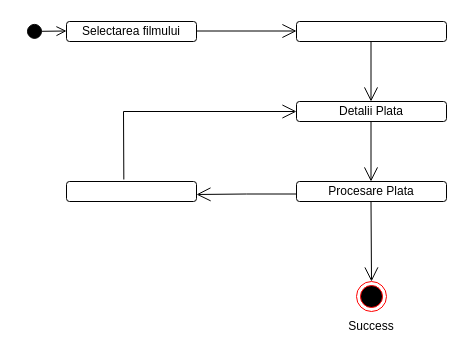
The diagram is 464 pixels wide and 358 high, and some of its shapes have lost their labels. The box of each missing label's shape, as (x1, y1, x2, y2) in pixels:
Alegerea orei si a datei: (296, 20, 446, 42)
Failed: (66, 180, 196, 202)
